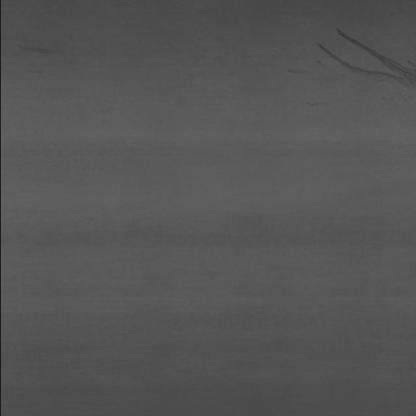water_spot: (300, 20, 416, 96)
